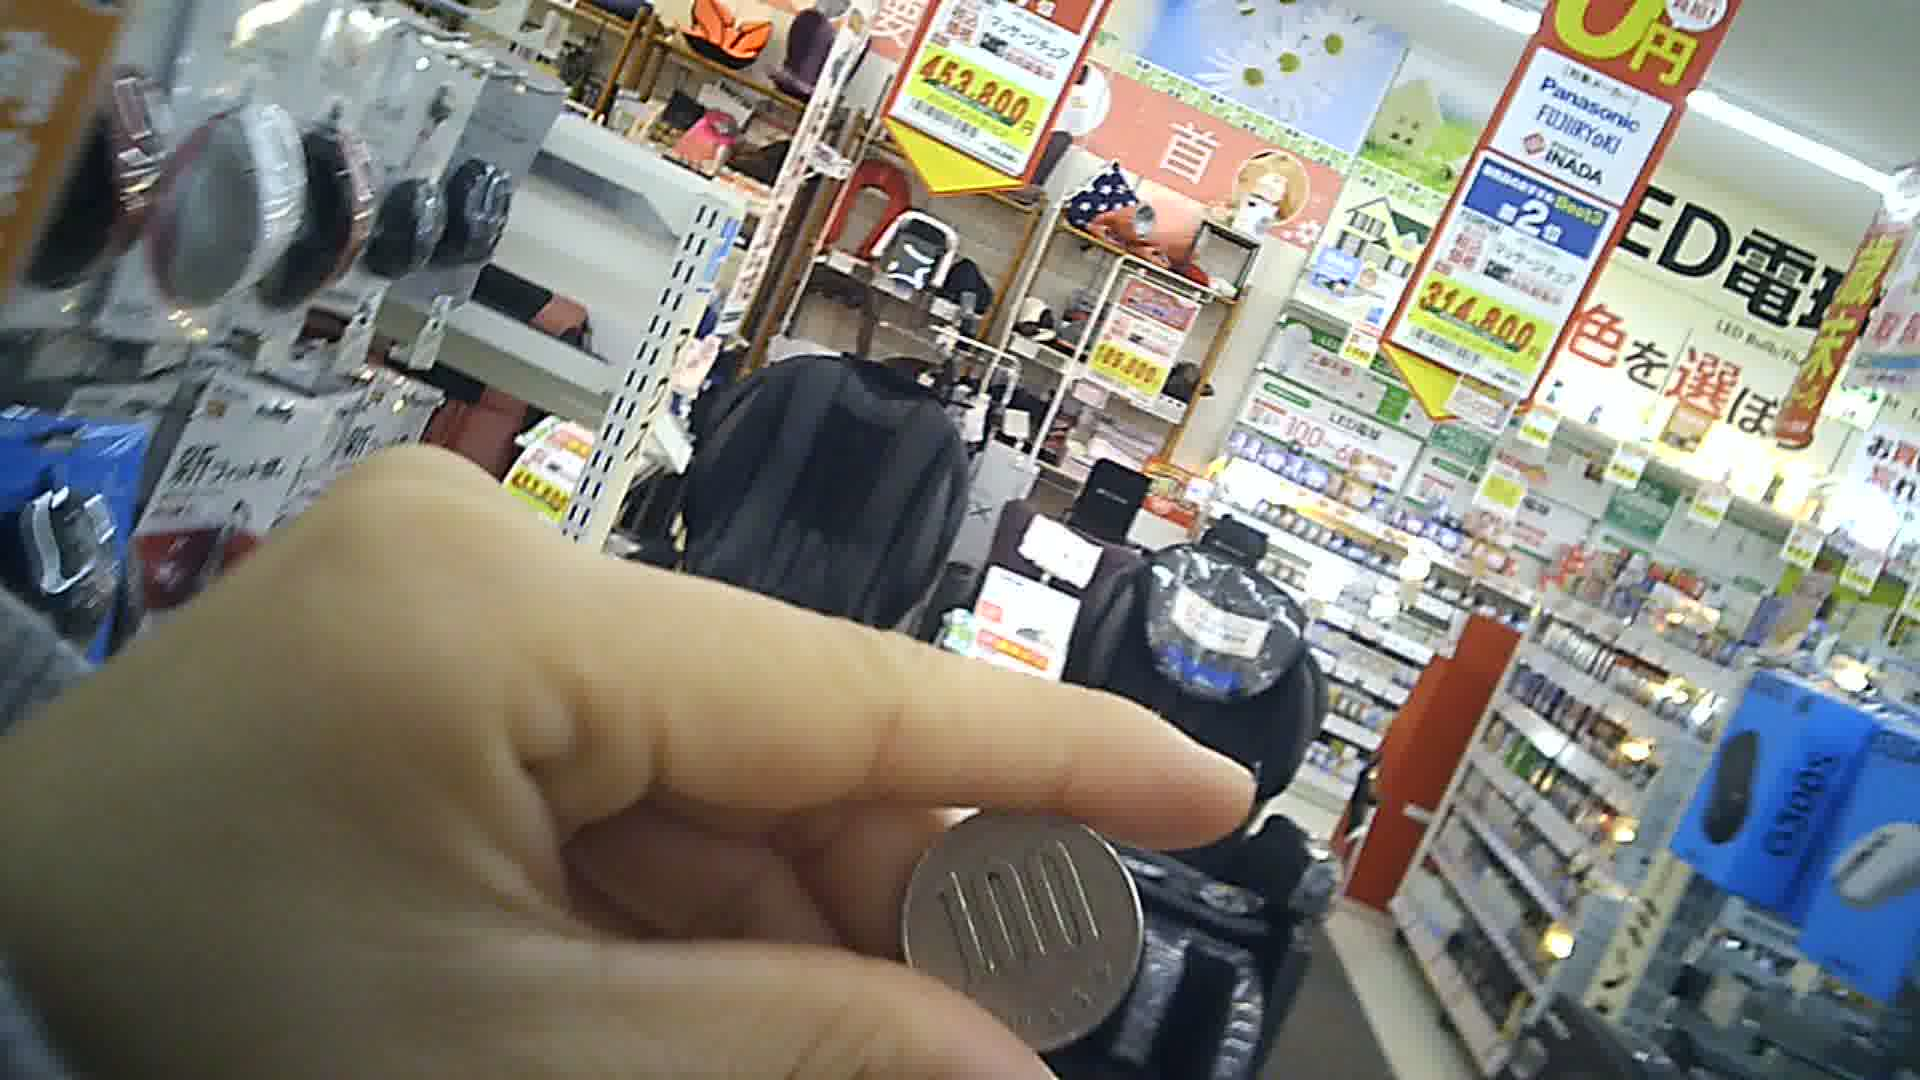100 Yen: (890, 796, 1142, 1051)
